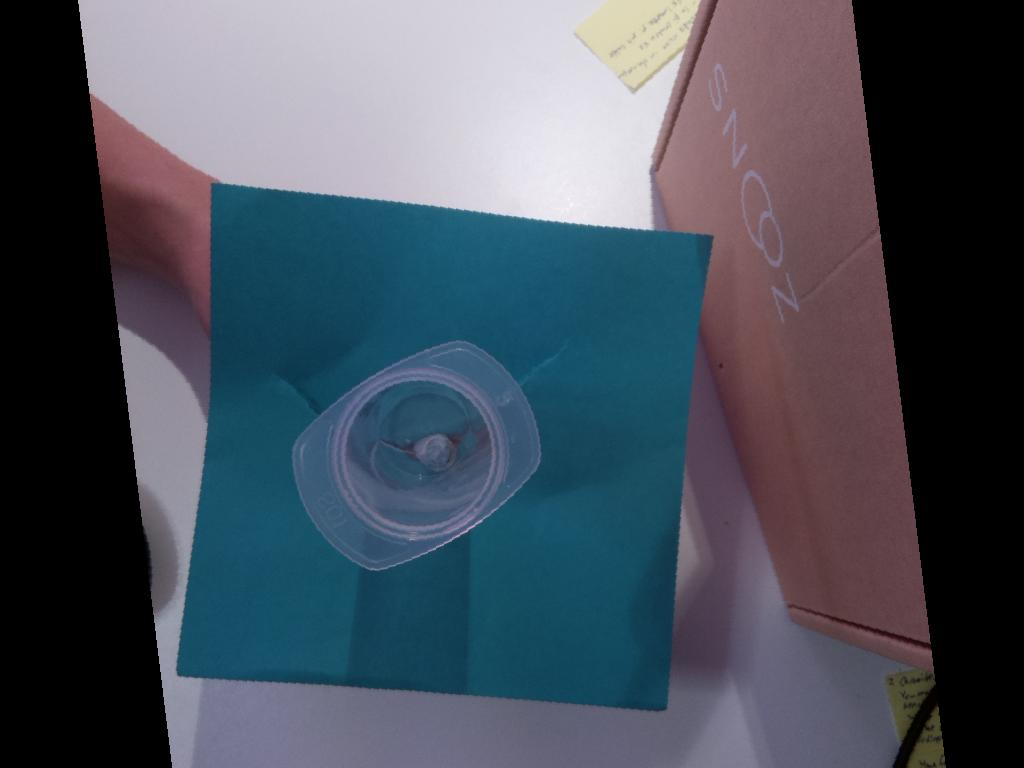clean: (287, 334, 553, 574)
